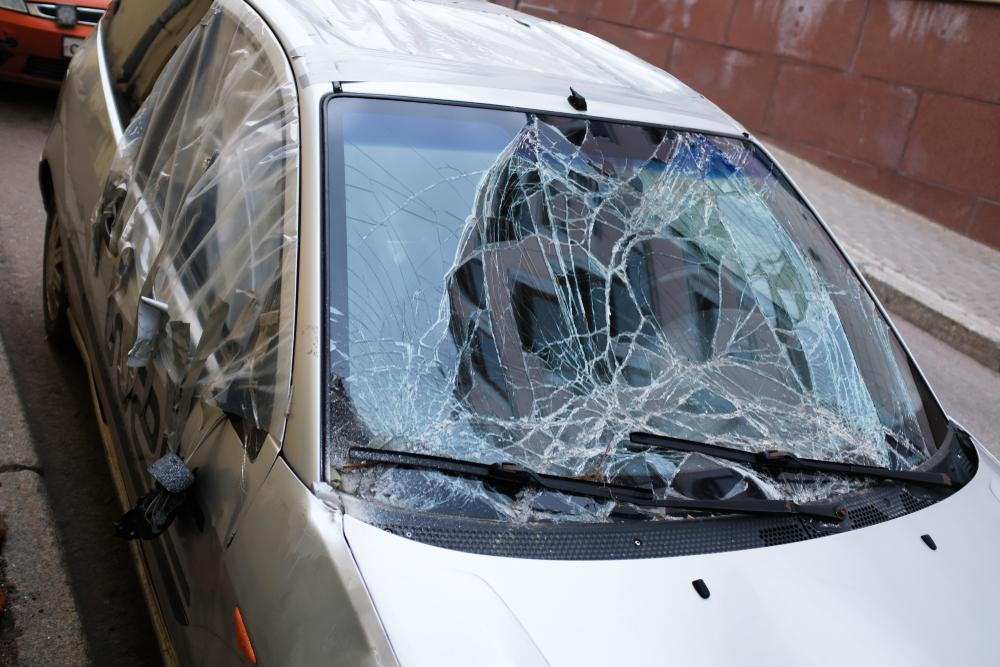glass shatter: (328, 96, 946, 523)
